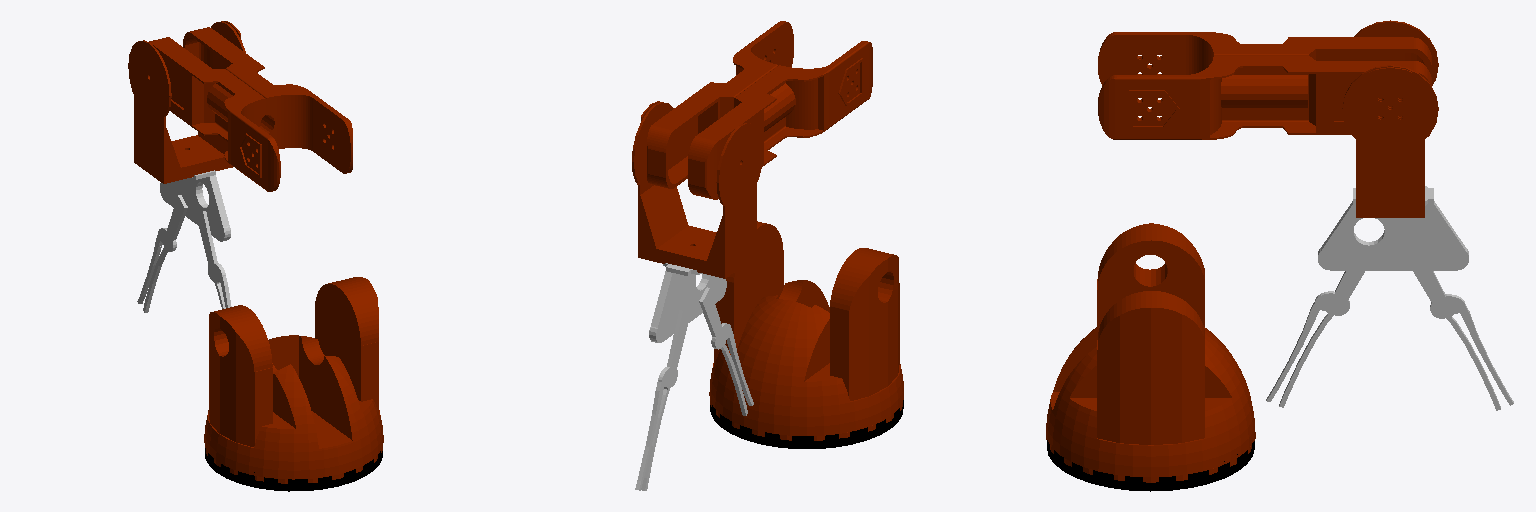
robot.urdf — braccio:
<?xml version="1.0"?>
<robot name="braccio">
    <link name="base_link">
        <visual>
            <geometry>
                <cylinder length="0.01" radius=".053" />
            </geometry>
            <material name="black" />
            <origin rpy="0 0 0" xyz="0 0 0" />
        </visual>
    </link>

    <link name="braccio_base_link">
        <visual>
            <geometry>
                <mesh filename="package://braccio_arduino_ros_rviz/stl/braccio_base.stl" scale="0.001 0.001 0.001" />
            </geometry>
            <material name="orange" />
            <origin rpy="0 0 3.1416" xyz="0 0.004 0" />
        </visual>
    </link>

    <link name="shoulder_link">
        <visual>
            <geometry>
                <mesh filename="package://braccio_arduino_ros_rviz/stl/braccio_shoulder.stl" scale="0.001 0.001 0.001" />
            </geometry>
            <material name="orange" />
            <origin rpy="0 0 0" xyz="-0.0045 0.0055 -0.026" />
        </visual>
    </link>

    <link name="elbow_link">
        <visual>
            <geometry>
                <mesh filename="package://braccio_arduino_ros_rviz/stl/braccio_elbow.stl" scale="0.001 0.001 0.001" />
            </geometry>
            <material name="orange" />
            <origin rpy="0 0 0" xyz="-0.0045 0.005 -0.025" />
        </visual>
    </link>

    <link name="wrist_pitch_link">
        <visual>
            <geometry>
                <mesh filename="package://braccio_arduino_ros_rviz/stl/braccio_wrist_pitch.stl" scale="0.001 0.001 0.001" />
            </geometry>
            <material name="orange" />
            <origin rpy="0 0 0" xyz="0.003 -0.0004 -0.024" />
        </visual>
    </link>

    <link name="wrist_roll_link">
        <visual>
            <geometry>
                <mesh filename="package://braccio_arduino_ros_rviz/stl/braccio_wrist_roll.stl" scale="0.001 0.001 0.001" />
            </geometry>
            <material name="white" />
            <origin rpy="0 0 0" xyz="0.006 0 0.0" />
        </visual>
    </link>

    <link name="left_gripper_link">
        <visual>
            <geometry>
                <mesh filename="package://braccio_arduino_ros_rviz/stl/braccio_left_gripper.stl" scale="0.001 0.001 0.001" />
            </geometry>
            <material name="white" />
            <origin rpy="0 1.5708 0" xyz="0 -0.012 0" />
        </visual>
    </link>

    <link name="right_gripper_link">
        <visual>
            <geometry>
                <mesh filename="package://braccio_arduino_ros_rviz/stl/braccio_right_gripper.stl" scale="0.001 0.001 0.001" />
            </geometry>
            <material name="white" />
            <origin rpy="0 1.5708 0" xyz="0 -0.012 0.010" />
        </visual>
    </link>

    <joint name="base_joint" type="revolute">
        <axis xyz="0 0 1" />
        <limit effort="1000.0" lower="0.0" upper="3.1416" velocity="1.0" />
        <origin rpy="0 0 0" xyz="0 0 0" />
        <parent link="base_link" />
        <child link="braccio_base_link" />
    </joint>

    <joint name="shoulder_joint" type="revolute">
        <axis xyz="1 0 0" />
        <limit effort="1000.0" lower="0.2618" upper="2.8798" velocity="1.0" />
        <origin rpy="-1.5708 0 0" xyz="0 -.002 0.072" />
        <parent link="braccio_base_link" />
        <child link="shoulder_link" />
    </joint>

    <joint name="elbow_joint" type="revolute">
        <axis xyz="1 0 0" />
        <limit effort="1000.0" lower="0" upper="3.1416" velocity="1.0" />
        <origin rpy="-1.5708 0 0" xyz="0 0 0.125" />
        <parent link="shoulder_link" />
        <child link="elbow_link" />
    </joint>

    <joint name="wrist_pitch_joint" type="revolute">
        <axis xyz="1 0 0" />
        <limit effort="1000.0" lower="0" upper="3.1416" velocity="1.0" />
        <origin rpy="-1.5708 0 0" xyz="0 0 0.125" />
        <parent link="elbow_link" />
        <child link="wrist_pitch_link" />
    </joint>

    <joint name="wrist_roll_joint" type="revolute">
        <axis xyz="0 0 -1" />
        <limit effort="1000.0" lower="0.0" upper="3.1416" velocity="1.0" />
        <origin rpy="0 0 1.5708" xyz="0 0.0 0.06" />
        <parent link="wrist_pitch_link" />
        <child link="wrist_roll_link" />
    </joint>

    <joint name="gripper_joint" type="revolute">
        <axis xyz="0 -1 0" />
        <limit effort="1000.0" lower="0.1750" upper="1.2741" velocity="1.0" />
        <origin rpy="0 -0.2967 0" xyz="0.010 0 0.03" />
        <parent link="wrist_roll_link" />
        <child link="right_gripper_link" />
    </joint>

    <joint name="sub_gripper_joint" type="revolute">
        <axis xyz="0 1 0" />
        <mimic joint="gripper_joint" />
        <limit effort="1000.0" lower="1.2741" upper="2.3732" velocity="1.0" />
        <origin rpy="0 3.4383 0" xyz="-0.010 0 0.03" />
        <parent link="wrist_roll_link" />
        <child link="left_gripper_link" />
    </joint>

    <material name="orange">
        <color rgba="0.57 0.17 0.0 1" />
    </material>
    <material name="white">
        <color rgba="0.8 0.8 0.8 1.0" />
    </material>
    <material name="black">
        <color rgba="0 0 0 0.50" />
    </material>

</robot>

--- What the picture shows (computed from the rendered views, not written in the file) ---
The picture shows the robot from 3 angles, left to right: view 1: azimuth 30°, elevation 25°; view 2: azimuth 150°, elevation 25°; view 3: azimuth 270°, elevation 25°; orthographic projection.
Model braccio with 8 links and 7 joints (7 revolute), rooted at base_link, posed joints at zero except 3 at the middle of their limits (shoulder_joint = 1.57, gripper_joint = 0.7246, sub_gripper_joint = 0.7246).
Visible links, largest first — view 1: braccio_base_link, elbow_link, wrist_pitch_link, wrist_roll_link, base_link, left_gripper_link, right_gripper_link; view 2: braccio_base_link, elbow_link, wrist_pitch_link, wrist_roll_link, left_gripper_link, base_link, right_gripper_link; view 3: braccio_base_link, elbow_link, wrist_pitch_link, wrist_roll_link, left_gripper_link, base_link, right_gripper_link.
Boxes of the visible links, <box> form: braccio_base_link: <box>204,277,383,483</box>; elbow_link: <box>149,27,352,191</box>; wrist_pitch_link: <box>128,21,245,183</box>; wrist_roll_link: <box>160,170,230,241</box>; base_link: <box>205,448,382,491</box>; left_gripper_link: <box>137,195,187,312</box>; right_gripper_link: <box>196,211,231,308</box>; braccio_base_link: <box>709,221,903,440</box>; elbow_link: <box>647,21,872,199</box>; wrist_pitch_link: <box>632,101,763,278</box>; wrist_roll_link: <box>649,263,726,342</box>; left_gripper_link: <box>635,310,689,490</box>; base_link: <box>710,400,903,448</box>; right_gripper_link: <box>699,287,753,415</box>; braccio_base_link: <box>1046,223,1255,482</box>; elbow_link: <box>1098,32,1431,139</box>; wrist_pitch_link: <box>1342,20,1438,217</box>; wrist_roll_link: <box>1318,186,1468,270</box>; left_gripper_link: <box>1413,271,1513,410</box>; base_link: <box>1047,440,1254,491</box>; right_gripper_link: <box>1266,271,1364,407</box>.
Bounding box of the posed robot: 0.1065 × 0.2379 × 0.226 m (x, y, z).
6 mesh visuals loaded from 7 distinct referenced files (6 binary STL); not drawn: 1 (reference not matched to a file when rendering).